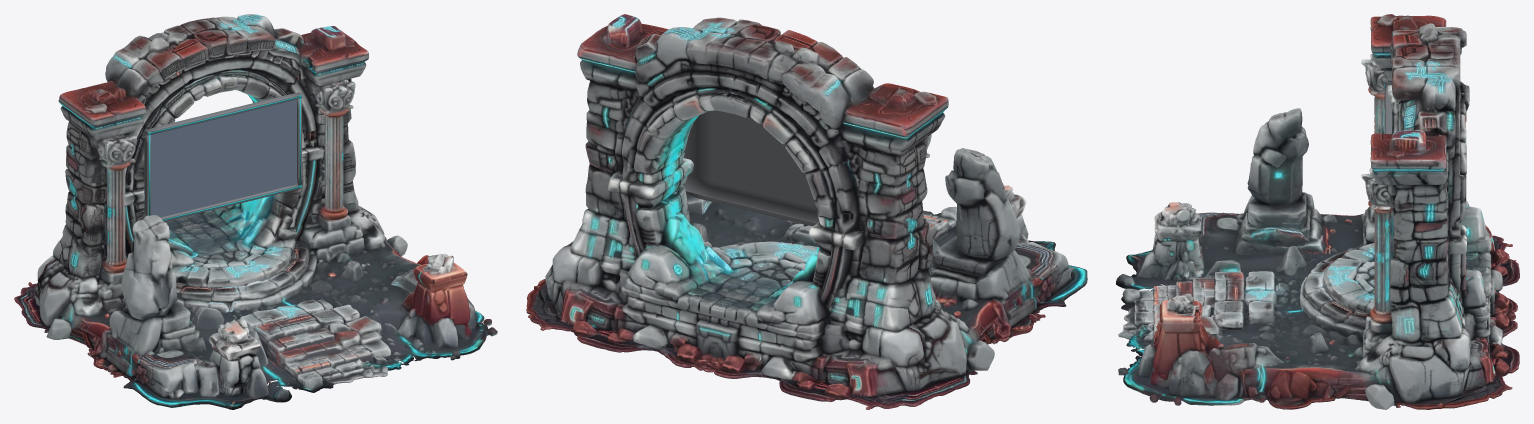
The model's file is kfb-meshy-portal-ruin.screen-a.v1.glb.
3 views of the same model, side by side, from view 1: azimuth 30°, elevation 25°; view 2: azimuth 150°, elevation 25°; view 3: azimuth 270°, elevation 25° (orthographic). The views are drawn at different scales.
Parts seen in each view (by area): view 1: portal_ruin, kfb_screen_slot, kfb_screen_frame; view 2: portal_ruin, kfb_screen_frame; view 3: portal_ruin.
Part boxes in pixels (box(x1,y1,x2,y2)): portal_ruin: box(14, 14, 497, 409); kfb_screen_slot: box(151, 99, 296, 217); kfb_screen_frame: box(144, 92, 301, 221); portal_ruin: box(526, 14, 1087, 409); kfb_screen_frame: box(683, 110, 819, 226); portal_ruin: box(1116, 14, 1519, 409).
Bounding box in the file's own units: 1.9 × 1.29 × 1.74.
Materials: 4 (1 with a texture image).
